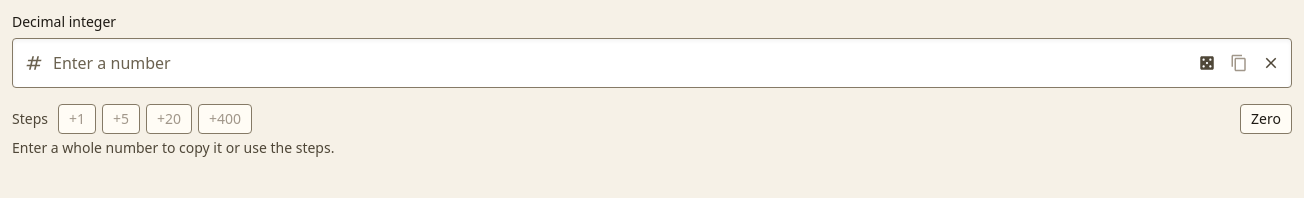
Test: NumberInput › flags a decimal value without turning 12.5 into 125
The image size is (1304, 198).
Type "12.5" into the field labelled "Decimal integer" at {"x": 652, "y": 63}, box [12, 38, 1292, 88]
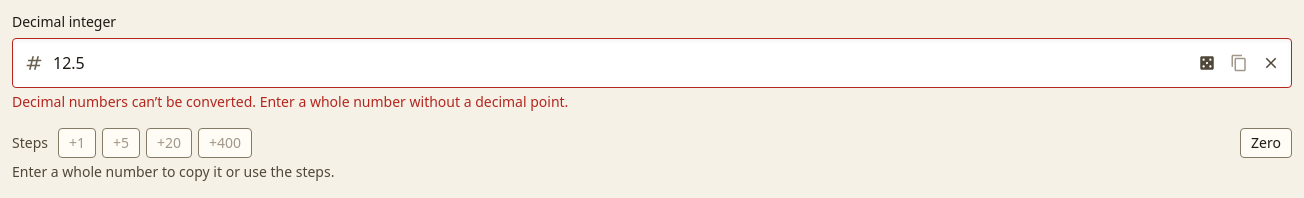
expect the text with id "number-input-error" shows "Decimal numbers": met, box [12, 92, 568, 111]
